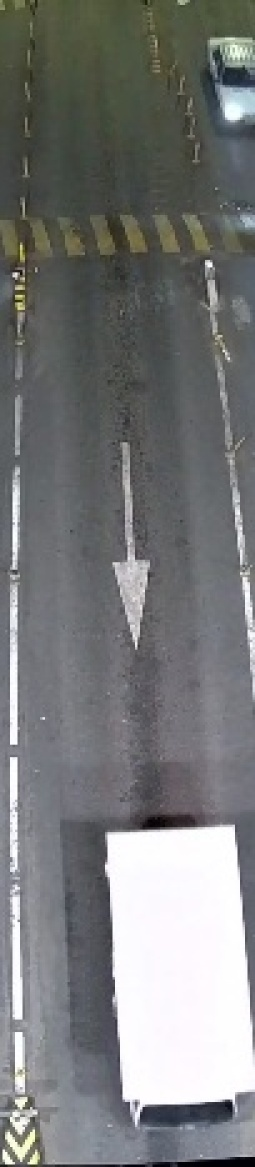car: (198, 21, 254, 145)
truck: (94, 816, 249, 1145)
